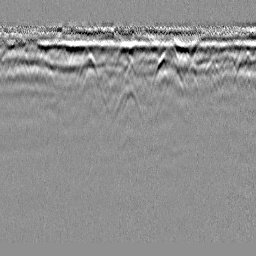cavity: (113, 84, 143, 123)
